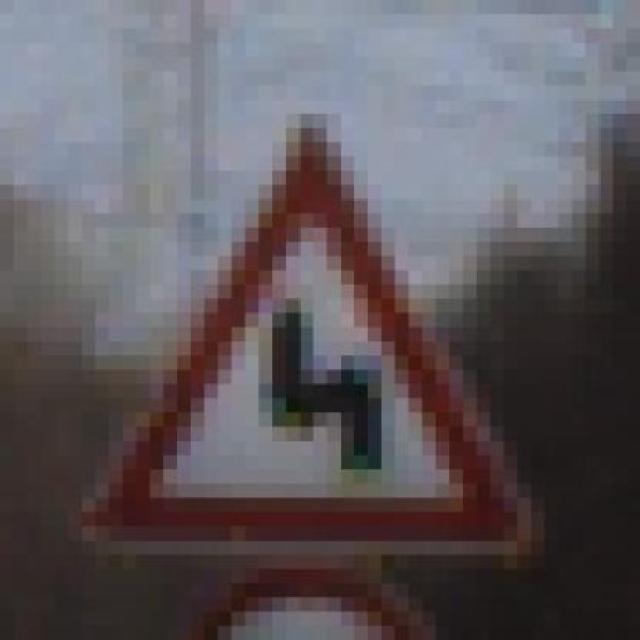Left Zig Zag Traffic: (53, 85, 544, 569)
